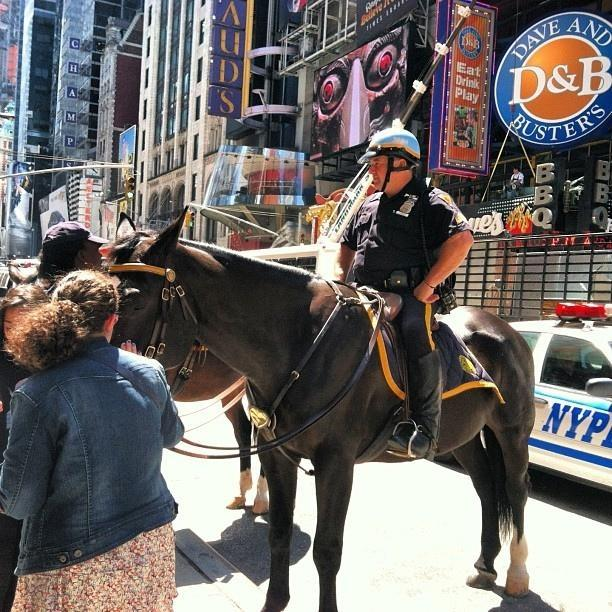car: (507, 303, 612, 498)
